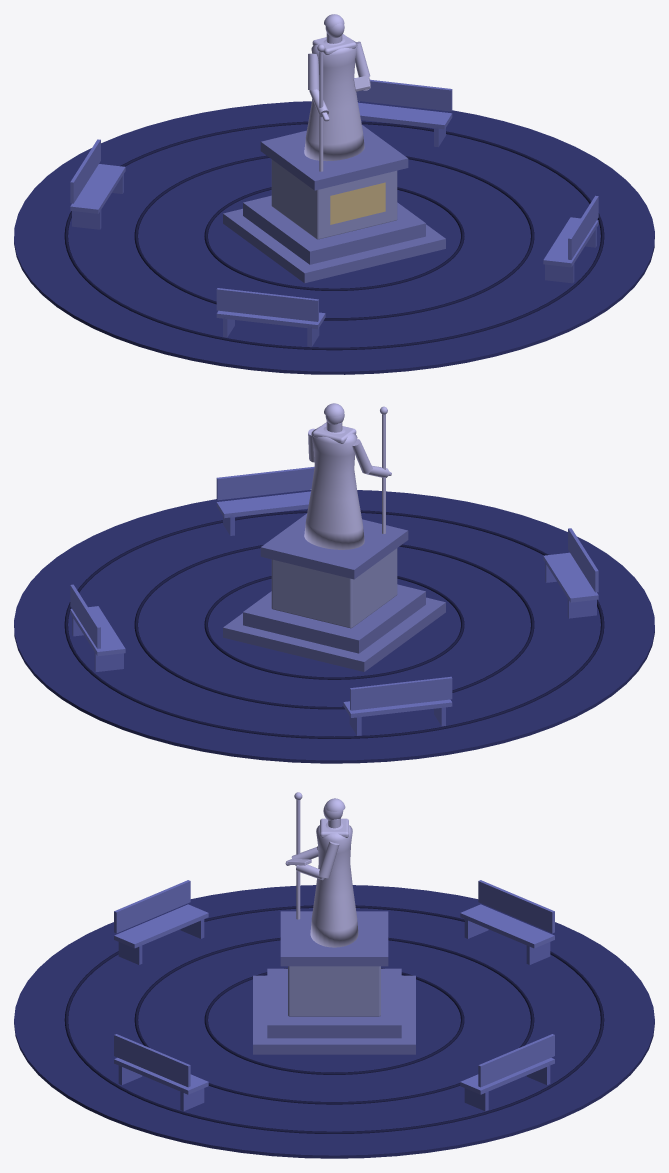
The model's file is statue.glb.
3 views of the same model, one above another, from view 1: azimuth 30°, elevation 25°; view 2: azimuth 150°, elevation 25°; view 3: azimuth 270°, elevation 25° (orthographic).
Parts seen in each view (by area): view 1: plaza, pedestal, coat, bench1, bench3, bench2, bench0, plaque, staff; view 2: plaza, pedestal, coat, bench0, bench2, bench3, bench1; view 3: plaza, pedestal, bench2, bench3, coat, bench0, bench1.
Boxes of the visible parts, <box> form: plaza: <box>14,101,654,374</box>; pedestal: <box>223,125,445,283</box>; coat: <box>304,37,364,161</box>; bench1: <box>354,78,452,147</box>; bench3: <box>216,288,325,346</box>; bench2: <box>70,139,125,229</box>; bench0: <box>543,195,598,283</box>; plaque: <box>330,182,385,224</box>; staff: <box>319,52,323,171</box>; plaza: <box>14,490,654,763</box>; pedestal: <box>223,513,445,671</box>; coat: <box>304,426,364,549</box>; bench0: <box>216,466,314,535</box>; bench2: <box>343,676,452,735</box>; bench3: <box>543,528,598,618</box>; bench1: <box>70,584,125,671</box>; plaza: <box>14,885,654,1158</box>; pedestal: <box>253,911,415,1054</box>; bench2: <box>460,880,554,964</box>; bench3: <box>114,880,208,964</box>; coat: <box>310,822,358,947</box>; bench0: <box>114,1034,208,1111</box>; bench1: <box>460,1034,554,1111</box>.
Bounding box in the file's own units: 11 × 4.25 × 11.
